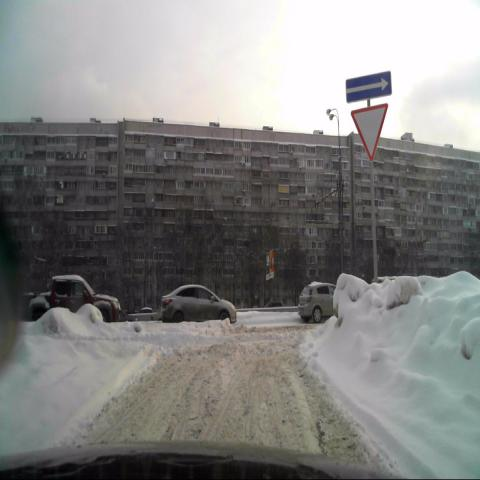5_7_1: (346, 73, 390, 99)
